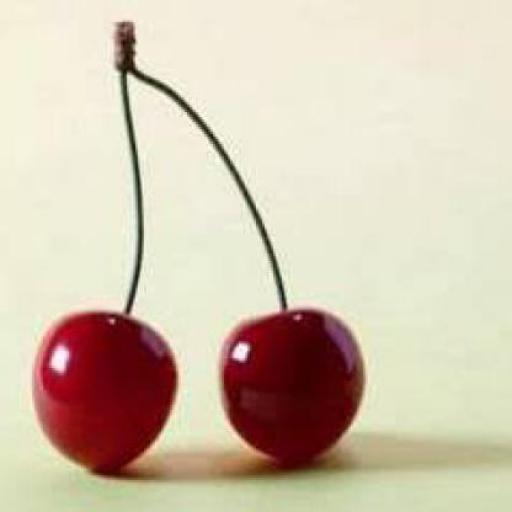biodegradable: (28, 308, 176, 478), (220, 302, 364, 473)
